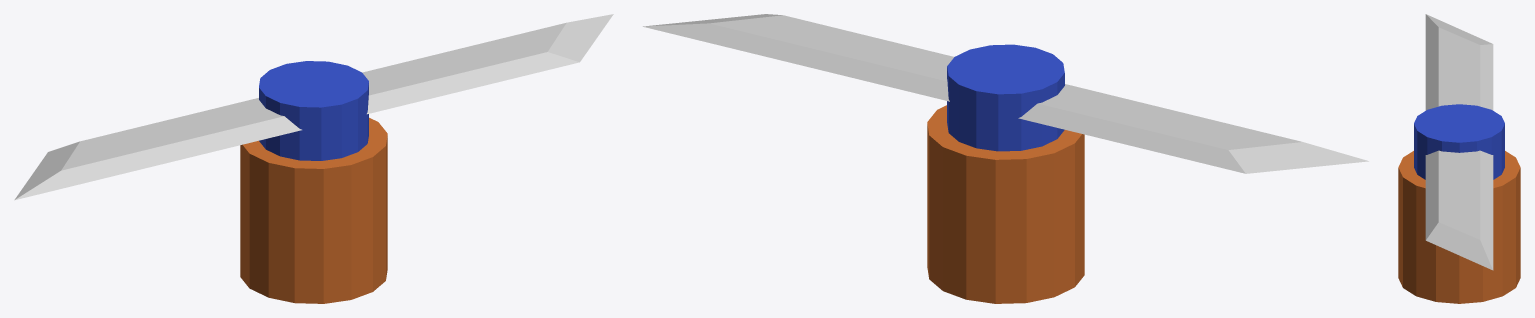
Rendered from Blade_trap.fbx.
3 renders of one model, left to right at view 1: azimuth 30°, elevation 25°; view 2: azimuth 150°, elevation 25°; view 3: azimuth 270°, elevation 25°, orthographic. The views are drawn at different scales.
Visible parts, largest first — view 1: Cylinder.001, Cylinder; view 2: Cylinder.001, Cylinder; view 3: Cylinder.001, Cylinder.
Part boxes in pixels (x1=…): Cylinder.001: x1=14, y1=14, x2=613, y2=200; Cylinder: x1=240, y1=117, x2=387, y2=303; Cylinder.001: x1=643, y1=14, x2=1368, y2=173; Cylinder: x1=927, y1=105, x2=1084, y2=303; Cylinder.001: x1=1414, y1=14, x2=1504, y2=270; Cylinder: x1=1398, y1=151, x2=1520, y2=303.
Bounding box in the file's own units: 32.86 × 9.24 × 6.61.
